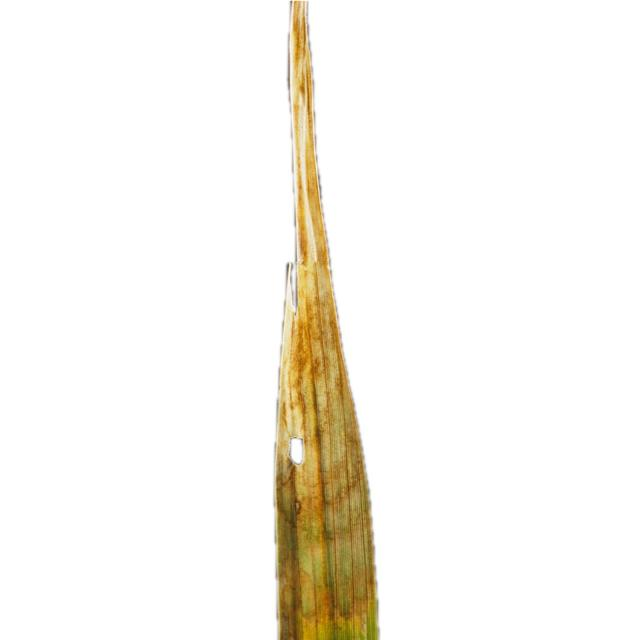Leaf scald: (186, 3, 450, 640)
